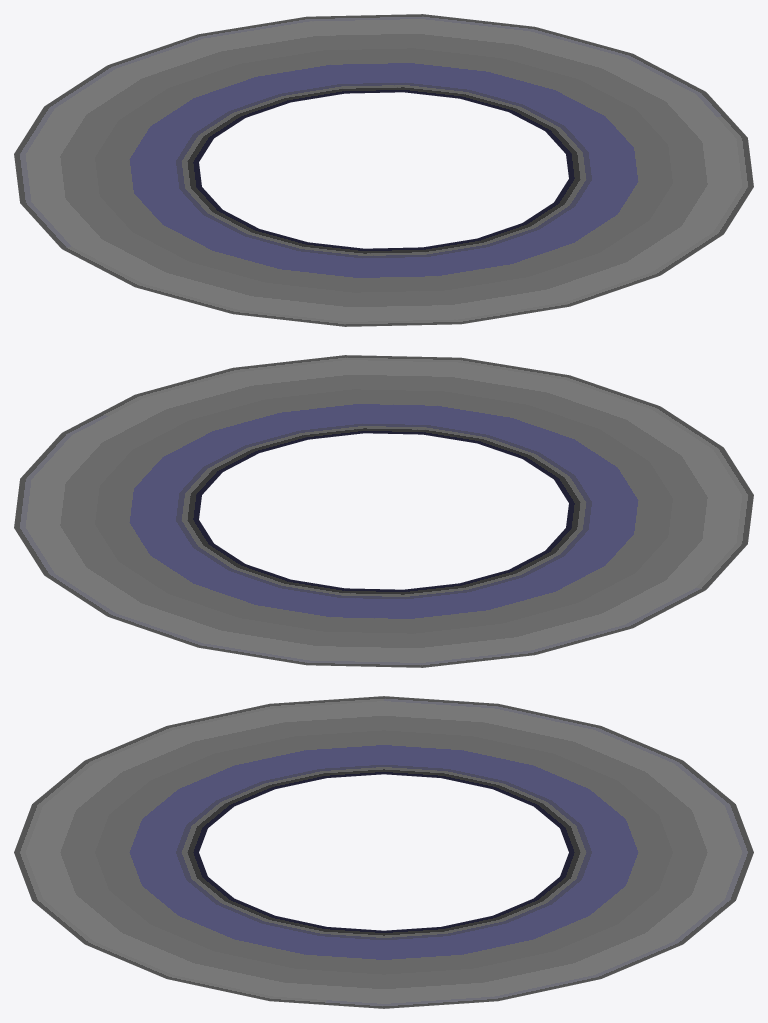
The model's file is jupiter.obj.
3 renders of one model, top to bottom at view 1: azimuth 30°, elevation 25°; view 2: azimuth 150°, elevation 25°; view 3: azimuth 270°, elevation 25°, orthographic.
Parts seen in each view (by area): view 1: unknown; view 2: unknown; view 3: unknown.
Part boxes in pixels (x1,y1,x2,y2): unknown: (14,14,753,326); unknown: (14,355,753,667); unknown: (14,696,753,1008).
Bounding box in the file's own units: 3 × 0 × 3.
